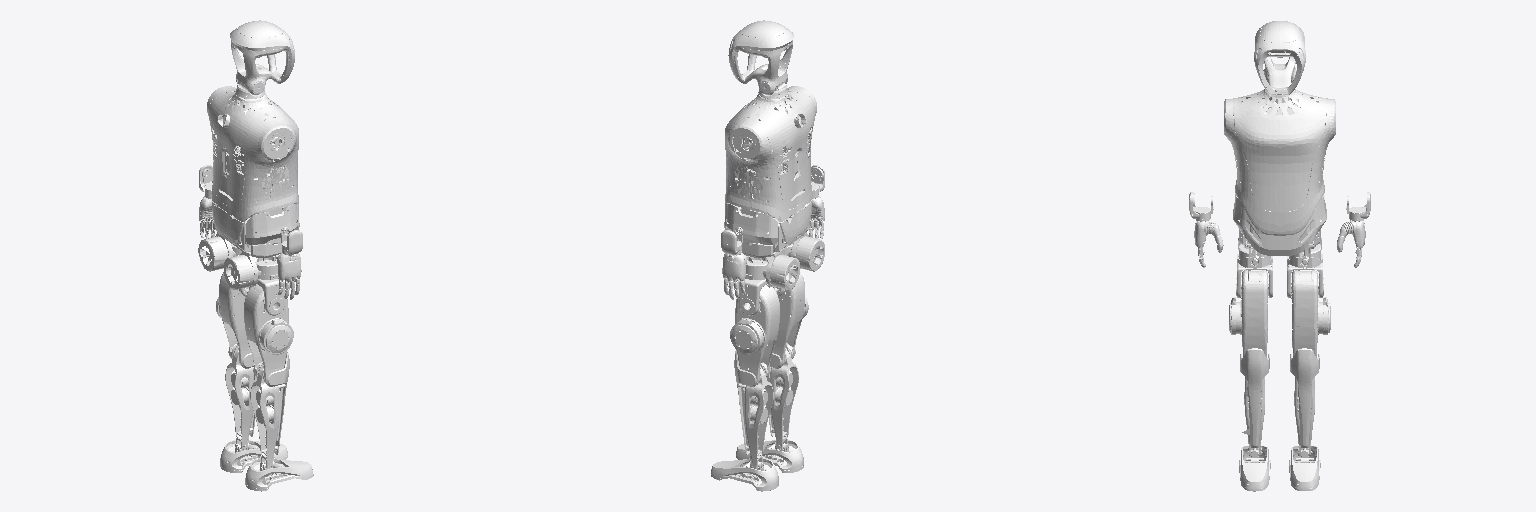
--- Render facts (derived) ---
The picture shows the robot from 3 angles, left to right: view 1: azimuth 30°, elevation 25°; view 2: azimuth 150°, elevation 25°; view 3: azimuth 270°, elevation 25°; orthographic projection.
Model biped_s42 with 47 links and 46 joints (28 revolute, 18 fixed), rooted at dummy_link, posed all joints at 0.
Visible links, largest first — view 1: base_link, zhead_2_link, leg_r3_link, leg_r4_link, leg_l4_link, leg_l3_link, leg_r6_link, zarm_r6_link, leg_l6_link, zarm_l6_link, leg_r2_link; view 2: base_link, zhead_2_link, leg_l3_link, leg_l4_link, leg_r4_link, leg_r3_link, leg_l6_link, zarm_l6_link, leg_r6_link, zarm_r6_link, leg_l2_link; view 3: base_link, zhead_2_link, leg_r3_link, leg_l3_link, leg_r4_link, leg_l4_link, leg_r6_link, leg_l6_link, zarm_r6_link, zarm_l6_link.
Link boxes in pixels (<box>): base_link: <box>198,86,299,289</box>; zhead_2_link: <box>230,20,294,94</box>; leg_r3_link: <box>244,284,293,386</box>; leg_r4_link: <box>250,350,289,468</box>; leg_l4_link: <box>225,345,258,450</box>; leg_l3_link: <box>216,272,250,368</box>; leg_r6_link: <box>245,459,313,491</box>; zarm_r6_link: <box>277,227,302,299</box>; leg_l6_link: <box>220,440,287,472</box>; zarm_l6_link: <box>199,165,214,238</box>; leg_r2_link: <box>249,279,284,315</box>; base_link: <box>724,86,824,289</box>; zhead_2_link: <box>728,20,793,94</box>; leg_l3_link: <box>730,284,779,386</box>; leg_l4_link: <box>734,350,773,468</box>; leg_r4_link: <box>765,344,798,450</box>; leg_r3_link: <box>773,272,808,368</box>; leg_l6_link: <box>711,459,778,491</box>; zarm_l6_link: <box>721,227,746,299</box>; leg_r6_link: <box>736,440,803,472</box>; zarm_r6_link: <box>809,165,824,238</box>; leg_l2_link: <box>739,279,774,315</box>; base_link: <box>1224,89,1335,268</box>; zhead_2_link: <box>1254,21,1305,94</box>; leg_r3_link: <box>1229,270,1268,357</box>; leg_l3_link: <box>1291,270,1330,357</box>; leg_r4_link: <box>1240,348,1269,455</box>; leg_l4_link: <box>1290,348,1319,455</box>; leg_r6_link: <box>1239,446,1270,491</box>; leg_l6_link: <box>1289,446,1320,490</box>; zarm_r6_link: <box>1189,192,1223,267</box>; zarm_l6_link: <box>1337,192,1370,267</box>.
Bounding box of the posed robot: 0.318 × 0.6281 × 1.71 m (x, y, z).
17 mesh visuals loaded from 32 distinct referenced files (17 binary STL); not drawn: 15 (reference not matched to a file when rendering).

URDF robot description (biped_s42):
<?xml version='1.0' encoding='utf-8'?>
<robot name="biped_s42">

  <mujoco>
    <compiler meshdir="../meshes/" balanceinertia="true" discardvisual="false" />
  </mujoco>

  <link name="dummy_link">
    <visual>
      <origin xyz="0 0 0" rpy="0 0 0"/>
      <geometry>
        <box size="0.05 0.05 0.05"/>
      </geometry>
    </visual>
    
  </link>
  
  <link 
    name="base_link">
    <inertial>
      <origin xyz="-0.0185005 0.00031952 0.1929569" rpy="0 0 0" />
      <mass value="26.30833803" />
      <inertia ixx="0.93103133" ixy="0.00011763" ixz="-0.07210993" iyy="0.82590532" iyz="6.88e-06" izz="0.27686612" />
    </inertial>
    <visual>
      <origin xyz="0 0 0" rpy="0 0 0" />
      <geometry>
        <mesh filename="package://kuavo_assets/models/biped_s42/meshes/torso.STL" />
      </geometry>
      <material name="">
        <color rgba="1 1 1 1" />
      </material>
    </visual>
  </link>
  
  

  <joint name="dummy_to_base_link" type="fixed">
    <origin xyz="0 0 0" rpy="0 0 0" />
    <parent link="dummy_link" />
    <child link="base_link" />
  </joint>

  <link name="leg_l1_link">
    <inertial>
      <origin xyz="-0.00430148 -2.708e-05 -0.00851195" rpy="0 0 0" />
      <mass value="1.71093115" />
      <inertia ixx="0.00206092" ixy="1.97e-06" ixz="6.944e-05" iyy="0.00277274" iyz="-5.1e-06" izz="0.00370826" />
    </inertial>
    <visual>
      <origin xyz="0 0 0" rpy="0 0 0" />
      <geometry>
        <mesh filename="package://kuavo_assets/models/biped_s42/meshes/l_leg_roll.STL" />
      </geometry>
      <material name="">
        <color rgba="1 1 1 1" />
      </material>
    </visual>
  </link>
  <joint name="leg_l1_joint" type="revolute">
    <origin xyz="-0.0024999 0.087 -0.066" rpy="0 0 0" />
    <parent link="base_link" />
    <child link="leg_l1_link" />
    <axis xyz="1 0 0" />
    <limit lower="-0.314159265358979" upper="0.663225115757845" effort="180.0" velocity="23.55" />
    <dynamics damping="0.2" friction="0.0"/>
  </joint>
  <link name="leg_l2_link">
    <inertial>
      <origin xyz="0.0 -0.00231118 -0.09062539" rpy="0 0 0" />
      <mass value="0.58029165" />
      <inertia ixx="0.00223984" ixy="0.0" ixz="3e-08" iyy="0.00123175" iyz="-6.98e-06" izz="0.00146391" />
    </inertial>
    <visual>
      <origin xyz="0 0 0" rpy="0 0 0" />
      <geometry>
        <mesh filename="package://kuavo_assets/models/biped_s42/meshes/l_leg_yaw.STL" />
      </geometry>
      <material name="">
        <color rgba="1 1 1 1" />
      </material>
    </visual>
  </link>
  <joint name="leg_l2_joint" type="revolute">
    <origin xyz="0 0 0" rpy="0 0 0" />
    <parent link="leg_l1_link" />
    <child link="leg_l2_link" />
    <axis xyz="0 0 1" />
    <limit lower="-0.872664625997165" upper="0.785398163397448" effort="100.0" velocity="41.3433333333333" />
    <dynamics damping="0.5" friction="0.0"/>
  </joint>
  <link name="leg_l3_link">
    <inertial>
      <origin xyz="0.00150537 0.01199614 -0.08411619" rpy="0 0 0" />
      <mass value="4.50393141" />
      <inertia ixx="0.0389365" ixy="7.866e-05" ixz="0.00102086" iyy="0.03942609" iyz="0.00219138" izz="0.00999961" />
    </inertial>
    <visual>
      <origin xyz="0 0 0" rpy="0 0 0" />
      <geometry>
        <mesh filename="package://kuavo_assets/models/biped_s42/meshes/l_leg_pitch.STL" />
      </geometry>
      <material name="">
        <color rgba="1 1 1 1" />
      </material>
    </visual>
  </link>
  <joint name="leg_l3_joint" type="revolute">
    <origin xyz="0.000500354536093913 -0.00100000000000011 -0.1287" rpy="0 0 0" />
    <parent link="leg_l2_link" />
    <child link="leg_l3_link" />
    <axis xyz="0 1 0" />
    <limit lower="-2.00712863979348" upper="1.5707963267949" effort="100.0" velocity="41.3433333333333" />
    <dynamics damping="0.2" friction="0.0"/>
  </joint>
  <link name="leg_l4_link">
    <inertial>
      <origin xyz="0.00696242 5.314e-05 -0.11549851" rpy="0 0 0" />
      <mass value="1.62776815" />
      <inertia ixx="0.01243912" ixy="-2.29e-06" ixz="5.881e-05" iyy="0.01229563" iyz="-2.895e-05" izz="0.00097937" />
    </inertial>
    <visual>
      <origin xyz="0 0 0" rpy="0 0 0" />
      <geometry>
        <mesh filename="package://kuavo_assets/models/biped_s42/meshes/l_knee.STL" />
      </geometry>
      <material name="">
        <color rgba="1 1 1 1" />
      </material>
    </visual>
  </link>
  <joint name="leg_l4_joint" type="revolute">
    <origin xyz="-6.87185435835039E-05 0 -0.284" rpy="0 0 0" />
    <parent link="leg_l3_link" />
    <child link="leg_l4_link" />
    <axis xyz="0 1 0" />
    <limit lower="0.0" upper="2.53072741539178" effort="180.0" velocity="23.55" />
    <dynamics damping="0.2" friction="0.0"/>
  </joint>
  <link name="leg_l5_link">
    <inertial>
      <origin xyz="0.0 0.0 0.0" rpy="0 0 0" />
      <mass value="0.07193524" />
      <inertia ixx="6.92e-04" ixy="0.0" ixz="0.0" iyy="6.92e-04" iyz="0.0" izz="1.218e-04" />
    </inertial>
    <visual>
      <origin xyz="0 0 0" rpy="0 0 0" />
      <geometry>
        <mesh filename="package://kuavo_assets/models/biped_s42/meshes/l_foot_pitch.STL" />
      </geometry>
      <material name="">
        <color rgba="1 1 1 1" />
      </material>
    </visual>
  </link>
  <joint name="leg_l5_joint" type="revolute">
    <origin xyz="-0.000431635992531742 0 -0.346000000000001" rpy="0 0 0" />
    <parent link="leg_l4_link" />
    <child link="leg_l5_link" />
    <axis xyz="0 1 0" />
    <limit lower="-0.872664625997165" upper="0.349065850398866" effort="36.0" velocity="23.0266666666667" />
    <dynamics damping="0.2" friction="0.0"/>
  </joint>
  <link name="leg_l6_link">
    <inertial>
      <origin xyz="0.03732754 -2.22e-06 -0.03883977" rpy="0 0 0" />
      <mass value="0.49861272" />
      <inertia ixx="0.00039242" ixy="3e-08" ixz="4.664e-05" iyy="0.00158655" iyz="0.0" izz="0.00172576" />
    </inertial>
    <visual>
      <origin xyz="0 0 0" rpy="0 0 0" />
      <geometry>
        <mesh filename="package://kuavo_assets/models/biped_s42/meshes/l_foot_roll.STL" />
      </geometry>
      <material name="">
        <color rgba="1 1 1 1" />
      </material>
    </visual>
  </link>
  <joint name="leg_l6_joint" type="revolute">
    <origin xyz="0 0 0" rpy="0 0 0" />
    <parent link="leg_l5_link" />
    <child link="leg_l6_link" />
    <axis xyz="1 0 0" />
    <limit lower="-0.261799387799149" upper="0.261799387799149" effort="36.0" velocity="23.0266666666667" />
    <dynamics damping="0.2" friction="0.0"/>
  </joint>
  <link name="ll_foot_toe">
    <collision>
      <origin rpy="0 0 0" xyz="0 0 0" />
      <geometry>
        <sphere radius="0.005" />
      </geometry>
    </collision>
  </link>
  <joint name="ll_foot_toe_joint" type="fixed">
    <origin xyz="0.17084 0.04773 -0.0595" rpy="0 0 0" />
    <parent link="leg_l6_link" />
    <child link="ll_foot_toe" />
  </joint>
  <link name="ll_foot_heel">
    <collision>
      <origin rpy="0 0 0" xyz="0 0 0" />
      <geometry>
        <sphere radius="0.005" />
      </geometry>
    </collision>
  </link>
  <joint name="ll_foot_heel_joint" type="fixed">
    <origin xyz="-0.073164 0.04773 -0.0595" rpy="0 0 0" />
    <parent link="leg_l6_link" />
    <child link="ll_foot_heel" />
  </joint>
  <link name="lr_foot_toe">
    <collision>
      <origin rpy="0 0 0" xyz="0 0 0" />
      <geometry>
        <sphere radius="0.005" />
      </geometry>
    </collision>
  </link>
  <joint name="lr_foot_toe_joint" type="fixed">
    <origin xyz="0.17084 -0.04773 -0.0595" rpy="0 0 0" />
    <parent link="leg_l6_link" />
    <child link="lr_foot_toe" />
  </joint>
  <link name="lr_foot_heel">
    <collision>
      <origin rpy="0 0 0" xyz="0 0 0" />
      <geometry>
        <sphere radius="0.005" />
      </geometry>
    </collision>
  </link>
  <joint name="lr_foot_heel_joint" type="fixed">
    <origin xyz="-0.073164 -0.04773 -0.0595" rpy="0 0 0" />
    <parent link="leg_l6_link" />
    <child link="lr_foot_heel" />
  </joint>
  <link name="l_foot_toe">
    <collision>
      <origin rpy="0 0 0" xyz="0 0 0" />
      <geometry>
        <sphere radius="0.005" />
      </geometry>
    </collision>
  </link>
  <joint name="l_foot_toe_joint" type="fixed">
    <origin xyz="0.17084 0.0 -0.0595" rpy="0 0 0" />
    <parent link="leg_l6_link" />
    <child link="l_foot_toe" />
  </joint>
  <link name="l_foot_heel">
    <collision>
      <origin rpy="0 0 0" xyz="0 0 0" />
      <geometry>
        <sphere radius="0.005" />
      </geometry>
    </collision>
  </link>
  <joint name="l_foot_heel_joint" type="fixed">
    <origin xyz="-0.073164 0.0 -0.0595" rpy="0 0 0" />
    <parent link="leg_l6_link" />
    <child link="l_foot_heel" />
  </joint>
  


  <link name="leg_r1_link">
    <inertial>
      <origin xyz="-0.00430146 2.709e-05 -0.00851195" rpy="0 0 0" />
      <mass value="1.71093008" />
      <inertia ixx="0.00206092" ixy="-1.97e-06" ixz="6.944e-05" iyy="0.00277274" iyz="5.1e-06" izz="0.00370826" />
    </inertial>
    <visual>
      <origin xyz="0 0 0" rpy="0 0 0" />
      <geometry>
        <mesh filename="package://kuavo_assets/models/biped_s42/meshes/r_leg_roll.STL" />
      </geometry>
      <material name="">
        <color rgba="1 1 1 1" />
      </material>
    </visual>
  </link>
  <joint name="leg_r1_joint" type="revolute">
    <origin xyz="-0.0024999 -0.087 -0.066" rpy="0 0 0" />
    <parent link="base_link" />
    <child link="leg_r1_link" />
    <axis xyz="1 0 0" />
    <limit lower="-0.663225115757845" upper="0.314159265358979" effort="180.0" velocity="23.55" />
    <dynamics damping="0.2" friction="0.0"/>
  </joint>
  <link name="leg_r2_link">
    <inertial>
      <origin xyz="0.0 0.00231118 -0.09062539" rpy="0 0 0" />
      <mass value="0.58029165" />
      <inertia ixx="0.00223984" ixy="0.0" ixz="-3e-08" iyy="0.00123175" iyz="6.98e-06" izz="0.00146391" />
    </inertial>
    <visual>
      <origin xyz="0 0 0" rpy="0 0 0" />
      <geometry>
        <mesh filename="package://kuavo_assets/models/biped_s42/meshes/r_leg_yaw.STL" />
      </geometry>
      <material name="">
        <color rgba="1 1 1 1" />
      </material>
    </visual>
  </link>
  <joint name="leg_r2_joint" type="revolute">
    <origin xyz="0 0 0" rpy="0 0 0" />
    <parent link="leg_r1_link" />
    <child link="leg_r2_link" />
    <axis xyz="0 0 1" />
    <limit lower="-0.785398163397448" upper="0.872664625997165" effort="100.0" velocity="41.3433333333333" />
    <dynamics damping="0.5" friction="0.0"/>
  </joint>
  <link name="leg_r3_link">
    <inertial>
      <origin xyz="0.00208315 -0.01199644 -0.08411379" rpy="0 0 0" />
      <mass value="4.50385993" />
      <inertia ixx="0.03893478" ixy="-7.792e-05" ixz="0.00103064" iyy="0.03942522" iyz="-0.00219154" izz="0.01000016" />
    </inertial>
    <visual>
      <origin xyz="0 0 0" rpy="0 0 0" />
      <geometry>
        <mesh filename="package://kuavo_assets/models/biped_s42/meshes/r_leg_pitch.STL" />
      </geometry>
      <material name="">
        <color rgba="1 1 1 1" />
      </material>
    </visual>
  </link>
  <joint name="leg_r3_joint" type="revolute">
    <origin xyz="-4.88006581312577E-05 0 -0.1287" rpy="0 0 0" />
    <parent link="leg_r2_link" />
    <child link="leg_r3_link" />
    <axis xyz="0 1 0" />
    <limit lower="-2.00712863979348" upper="1.5707963267949" effort="100.0" velocity="41.3433333333333" />
    <dynamics damping="0.2" friction="0.0"/>
  </joint>
  <link name="leg_r4_link">
    <inertial>
      <origin xyz="0.00743231 -5.343e-05 -0.11558701" rpy="0 0 0" />
      <mass value="1.62655699" />
      <inertia ixx="0.01241258" ixy="2.28e-06" ixz="6.289e-05" iyy="0.0122692" iyz="2.902e-05" izz="0.00097927" />
    </inertial>
    <visual>
      <origin xyz="0 0 0" rpy="0 0 0" />
      <geometry>
        <mesh filename="package://kuavo_assets/models/biped_s42/meshes/r_knee.STL" />
      </geometry>
      <material name="">
        <color rgba="1 1 1 1" />
      </material>
    </visual>
  </link>
  <joint name="leg_r4_joint" type="revolute">
    <origin xyz="0.000147138572785148 0 -0.283999982974744" rpy="0 0 0" />
    <parent link="leg_r3_link" />
    <child link="leg_r4_link" />
    <axis xyz="0 1 0" />
    <limit lower="0.0" upper="2.53072741539178" effort="180.0" velocity="23.55" />
    <dynamics damping="0.2" friction="0.0"/>
  </joint>
  <link name="leg_r5_link">
    <inertial>
      <origin xyz="0.0 0.0 0.0" rpy="0 0 0" />
      <mass value="0.07193524" />
      <inertia ixx="6.92e-04" ixy="0.0" ixz="0.0" iyy="6.92e-04" iyz="0.0" izz="1.218e-04" />
    </inertial>
    <visual>
      <origin xyz="0 0 0" rpy="0 0 0" />
      <geometry>
        <mesh filename="package://kuavo_assets/models/biped_s42/meshes/r_foot_pitch.STL" />
      </geometry>
      <material name="">
        <color rgba="1 1 1 1" />
      </material>
    </visual>
  </link>
  <joint name="leg_r5_joint" type="revolute">
    <origin xyz="0.000119806050928577 0 -0.345999979257963" rpy="0 0 0" />
    <parent link="leg_r4_link" />
    <child link="leg_r5_link" />
    <axis xyz="0 1 0" />
    <limit lower="-0.872664625997165" upper="0.349065850398866" effort="36.0" velocity="23.0266666666667" />
    <dynamics damping="0.2" friction="0.0"/>
  </joint>
  <link name="leg_r6_link">
    <inertial>
      <origin xyz="0.03734098 -2.22e-06 -0.03882684" rpy="0 0 0" />
      <mass value="0.49861272" />
      <inertia ixx="0.00039238" ixy="3e-08" ixz="4.618e-05" iyy="0.00158655" iyz="0.0" izz="0.00172579" />
    </inertial>
    <visual>
      <origin xyz="0 0 0" rpy="0 0 0" />
      <geometry>
        <mesh filename="package://kuavo_assets/models/biped_s42/meshes/r_foot_roll.STL" />
      </geometry>
      <material name="">
        <color rgba="1 1 1 1" />
      </material>
    </visual>
  </link>
  <joint name="leg_r6_joint" type="revolute">
    <origin xyz="0 0 0" rpy="0 0 0" />
    <parent link="leg_r5_link" />
    <child link="leg_r6_link" />
    <axis xyz="1 0 0" />
    <limit lower="-0.261799387799149" upper="0.261799387799149" effort="36.0" velocity="23.0266666666667" />
    <dynamics damping="0.2" friction="0.0"/>
  </joint>
  <link name="rl_foot_toe">
    <collision>
      <origin rpy="0 0 0" xyz="0 0 0" />
      <geometry>
        <sphere radius="0.005" />
      </geometry>
    </collision>
  </link>
  <joint name="rl_foot_toe_joint" type="fixed">
    <origin xyz="0.17084 0.04773 -0.0595" rpy="0 0 0" />
    <parent link="leg_r6_link" />
    <child link="rl_foot_toe" />
  </joint>
  <link name="rl_foot_heel">
    <collision>
      <origin rpy="0 0 0" xyz="0 0 0" />
      <geometry>
        <sphere radius="0.005" />
      </geometry>
    </collision>
  </link>
  <joint name="rl_foot_heel_joint" type="fixed">
    <origin xyz="-0.073164 0.04773 -0.0595" rpy="0 0 0" />
    <parent link="leg_r6_link" />
    <child link="rl_foot_heel" />
  </joint>
  <link name="rr_foot_toe">
    <collision>
      <origin rpy="0 0 0" xyz="0 0 0" />
      <geometry>
        <sphere radius="0.005" />
      </geometry>
    </collision>
  </link>
  <joint name="rr_foot_toe_joint" type="fixed">
    <origin xyz="0.17084 -0.04773 -0.0595" rpy="0 0 0" />
    <parent link="leg_r6_link" />
    <child link="rr_foot_toe" />
  </joint>
  <link name="rr_foot_heel">
    <collision>
      <origin rpy="0 0 0" xyz="0 0 0" />
      <geometry>
        <sphere radius="0.005" />
      </geometry>
    </collision>
  </link>
  <joint name="rr_foot_heel_joint" type="fixed">
    <origin xyz="-0.073164 -0.04773 -0.0595" rpy="0 0 0" />
    <parent link="leg_r6_link" />
    <child link="rr_foot_heel" />
  </joint>
  <link name="r_foot_toe">
    <collision>
      <origin rpy="0 0 0" xyz="0 0 0" />
      <geometry>
        <sphere radius="0.005" />
      </geometry>
    </collision>
  </link>
  <joint name="r_foot_toe_joint" type="fixed">
    <origin xyz="0.17084 0.0 -0.0595" rpy="0 0 0" />
    <parent link="leg_r6_link" />
    <child link="r_foot_toe" />
  </joint>
  <link name="r_foot_heel">
    <collision>
      <origin rpy="0 0 0" xyz="0 0 0" />
      <geometry>
        <sphere radius="0.005" />
      </geometry>
    </collision>
  </link>
  <joint name="r_foot_heel_joint" type="fixed">
    <origin xyz="-0.073164 0.0 -0.0595" rpy="0 0 0" />
    <parent link="leg_r6_link" />
    <child link="r_foot_heel" />
  </joint>

  <link name="zarm_l1_link">
    <inertial>
      <origin xyz="0.008 -0.00158 0.0036" rpy="0 0 0" />
      <mass value="1.15" />
      <inertia ixx="0.0006" ixy="5e-05" ixz="1e-05" iyy="0.00048" iyz="-6e-05" izz="0.0007" />
    </inertial>
    <visual>
      <origin xyz="0 0 0" rpy="0 0 0" />
      <geometry>
        <mesh filename="package://kuavo_assets/models/biped_s42/meshes/l_arm_pitch.STL" />
      </geometry>
      <material name="">
        <color rgba="1 1 1 1" />
      </material>
    </visual>
  </link>
  <joint name="zarm_l1_joint" type="revolute">
    <origin xyz="-0.017499853 0.26686 0.4245" rpy="0 0 0" />
    <parent link="base_link" />
    <child link="zarm_l1_link" />
    <axis xyz="0 1 0" />
    <limit lower="-2.61799387799149" upper="0.523598775598299" effort="100.0" velocity="41.3433333333333" />
    <dynamics damping="0.2" friction="0.0"/>
  </joint>
  <link name="zarm_l2_link">
    <inertial>
      <origin xyz="0.00144 0.02159 -0.0202" rpy="0 0 0" />
      <mass value="0.226" />
      <inertia ixx="0.0003" ixy="3e-05" ixz="1e-05" iyy="0.00061" iyz="5e-05" izz="0.00057" />
    </inertial>
    <visual>
      <origin xyz="0 0 0" rpy="0 0 0" />
      <geometry>
        <mesh filename="package://kuavo_assets/models/biped_s42/meshes/l_arm_roll.STL" />
      </geometry>
      <material name="">
        <color rgba="1 1 1 1" />
      </material>
    </visual>
  </link>
  <joint name="zarm_l2_joint" type="revolute">
    <origin xyz="0 0 0" rpy="0 0 0" />
    <parent link="zarm_l1_link" />
    <child link="zarm_l2_link" />
    <axis xyz="1 0 0" />
    <limit lower="-0.349065850398866" upper="2.0943951023932" effort="50.0" velocity="19.154" />
    <dynamics damping="0.2" friction="0.0"/>
  </joint>
  <link name="zarm_l3_link">
    <inertial>
      <origin xyz="-0.00157 -3e-05 -0.13318" rpy="0 0 0" />
      <mass value="1.166" />
      <inertia ixx="0.00245" ixy="-1e-05" ixz="-1e-05" iyy="0.0022" iyz="0.0" izz="0.00112" />
    </inertial>
    <visual>
      <origin xyz="0 0 0" rpy="0 0 0" />
      <geometry>
        <mesh filename="package://kuavo_assets/models/biped_s42/meshes/l_arm_yaw.STL" />
      </geometry>
      <material name="">
        <color rgba="1 1 1 1" />
      </material>
    </visual>
  </link>
  <joint name="zarm_l3_joint" type="revolute">
    <origin xyz="0 0 0" rpy="0 0 0" />
    <parent link="zarm_l2_link" />
    <child link="zarm_l3_link" />
    <axis xyz="0 0 1" />
    <limit lower="-1.5707963267949" upper="1.5707963267949" effort="20.0" velocity="18.84" />
    <dynamics damping="0.2" friction="0.0"/>
  </joint>
  <link name="zarm_l4_link">
    <inertial>
      <origin xyz="-4e-05 0.0098 -0.05283" rpy="0 0 0" />
      <mass value="0.575" />
      <inertia ixx="0.00098" ixy="0.0" ixz="0.0" iyy="0.00062" iyz="-0.00016" izz="0.00088" />
    </inertial>
    <visual>
      <origin xyz="0 0 0" rpy="0 0 0" />
      <geometry>
        <mesh filename="package://kuavo_assets/models/biped_s42/meshes/l_forearm.STL" />
      </geometry>
      <material name="">
        <color rgba="1 1 1 1" />
      </material>
    </visual>
  </link>
  <joint name="zarm_l4_joint" type="revolute">
    <origin xyz="0 0 -0.1646" rpy="0 0 0" />
    <parent link="zarm_l3_link" />
    <child link="zarm_l4_link" />
    <axis xyz="0 1 0" />
    <limit lower="-1.5707963267949" upper="0.0" effort="20.0" velocity="18.84" />
    <dynamics damping="0.2" friction="0.0"/>
  </joint>
  <link name="zarm_l5_link">
    <inertial>
      <origin xyz="-0.00011 0.00421 -0.11168" rpy="0 0 0" />
      <mass value="0.46" />
      <inertia ixx="0.00077" ixy="0.0" ixz="0.0" iyy="0.0005" iyz="-4e-05" izz="0.00063" />
    </inertial>
    <visual>
      <origin xyz="0 0 0" rpy="0 0 0" />
      <geometry>
        <mesh filename="package://kuavo_assets/models/biped_s42/meshes/l_hand_yaw.STL" />
      </geometry>
      <material name="">
        <color rgba="1 1 1 1" />
      </material>
    </visual>
  </link>
  <joint name="zarm_l5_joint" type="revolute">
    <origin xyz="0 0 0" rpy="0 0 0" />
    <parent link="zarm_l4_link" />
    <child link="zarm_l5_link" />
    <axis xyz="0 0 1" />
    <limit lower="-1.5707963267949" upper="1.5707963267949" effort="6.0" velocity="21.666" />
    <dynamics damping="0.2" friction="0.0"/>
  </joint>
  <link name="zarm_l6_link">
    <inertial>
      <origin xyz="0.00253 0.00382 -0.05356" rpy="0 0 0" />
      <mass value="0.35" />
      <inertia ixx="0.00023" ixy="0.0" ixz="0.0" iyy="0.00024" iyz="-4e-05" izz="0.00019" />
    </inertial>
    <visual>
      <origin xyz="0 0 0" rpy="0 0 0" />
      <geometry>
        <mesh filename="package://kuavo_assets/models/biped_s42/meshes/l_hand_pitch.STL" />
      </geometry>
      <material name="">
        <color rgba="1 1 1 1" />
      </material>
    </visual>
  </link>
  <joint name="zarm_l6_joint" type="revolute">
    <origin xyz="0 0 -0.132050000125748" rpy="0 0 0" />
    <parent link="zarm_l5_link" />
    <child link="zarm_l6_link" />
    <axis xyz="0 1 0" />
    <limit lower="-1.5707963267949" upper="1.5707963267949" effort="6.0" velocity="21.666" />
    <dynamics damping="0.2" friction="0.0"/>
  </joint>
  <link name="zarm_l7_link">
    <inertial>
      <origin xyz="0.00267 0.00748 -0.07162" rpy="0 0 0" />
      <mass value="0.81" />
      <inertia ixx="0.00117" ixy="2e-05" ixz="0.0" iyy="0.00128" iyz="-2e-05" izz="0.00036" />
    </inertial>
    <visual>
      <origin xyz="0 0 0" rpy="0 0 0" />
      <geometry>
        <mesh filename="package://kuavo_assets/models/biped_s42/meshes/l_hand_roll.STL" />
      </geometry>
      <material name="">
        <color rgba="1 1 1 1" />
      </material>
    </visual>
  </link>
  <joint name="zarm_l7_joint" type="revolute">
    <origin xyz="0 0 -0.0589999999999999" rpy="0 0 0" />
    <parent link="zarm_l6_link" />
    <child link="zarm_l7_link" />
    <axis xyz="1 0 0" />
    <limit lower="-1.5707963267949" upper="1.5707963267949" effort="6.0" velocity="21.666" />
    <dynamics damping="0.2" friction="0.0"/>
  </joint>
  <link name="zarm_l7_end_effector">
    <collision>
      <origin rpy="0 0 0" xyz="0 0 0" />
      <geometry>
        <sphere radius="0.005" />
      </geometry>
    </collision>
  </link>
  <joint name="zarm_l7_end_effector_joint" type="fixed">
    <origin xyz="0 -0.03 -0.17" rpy="0 0 0" />
    <parent link="zarm_l7_link" />
    <child link="zarm_l7_end_effector" />
  </joint>
  <link name="zarm_r1_link">
    <inertial>
      <origin xyz="0.008 0.00158 -0.0036" rpy="0 0 0" />
      <mass value="1.15" />
      <inertia ixx="0.0006" ixy="-5e-05" ixz="-1e-05" iyy="0.00048" iyz="-6e-05" izz="0.0007" />
    </inertial>
    <visual>
      <origin xyz="0 0 0" rpy="0 0 0" />
      <geometry>
        <mesh filename="package://kuavo_assets/models/biped_s42/meshes/r_arm_pitch.STL" />
      </geometry>
      <material name="">
        <color rgba="1 1 1 1" />
      </material>
    </visual>
  </link>
  <joint name="zarm_r1_joint" type="revolute">
    <origin xyz="-0.017499853 -0.26686 0.4245" rpy="0 0 0" />
    <parent link="base_link" />
    <child link="zarm_r1_link" />
    <axis xyz="0 1 0" />
    <limit lower="-2.61799387799149" upper="0.523598775598299" effort="100.0" velocity="41.3433333333333" />
    <dynamics damping="0.2" friction="0.0"/>
  </joint>
  <link name="zarm_r2_link">
    <inertial>
      <origin xyz="0.00144 -0.02159 -0.02021" rpy="0 0 0" />
      <mass value="0.226" />
      <inertia ixx="0.0003" ixy="-3e-05" ixz="1e-05" iyy="0.00061" iyz="-5e-05" izz="0.00057" />
    </inertial>
    <visual>
      <origin xyz="0 0 0" rpy="0 0 0" />
      <geometry>
        <mesh filename="package://kuavo_assets/models/biped_s42/meshes/r_arm_roll.STL" />
      </geometry>
      <material name="">
        <color rgba="1 1 1 1" />
      </material>
    </visual>
  </link>
  <joint name="zarm_r2_joint" type="revolute">
    <origin xyz="0 0 0" rpy="0 0 0" />
    <parent link="zarm_r1_link" />
    <child link="zarm_r2_link" />
    <axis xyz="1 0 0" />
    <limit lower="-2.0943951023932" upper="0.349065850398866" effort="50.0" velocity="19.154" />
    <dynamics damping="0.2" friction="0.0"/>
  </joint>
  <link name="zarm_r3_link">
    <inertial>
      <origin xyz="-0.00157 3e-05 -0.13318" rpy="0 0 0" />
      <mass value="1.166" />
      <inertia ixx="0.00245" ixy="1e-05" ixz="-1e-05" iyy="0.0022" iyz="0.0" izz="0.00112" />
    </inertial>
    <visual>
      <origin xyz="0 0 0" rpy="0 0 0" />
      <geometry>
        <mesh filename="package://kuavo_assets/models/biped_s42/meshes/r_arm_yaw.STL" />
      </geometry>
      <material name="">
        <color rgba="1 1 1 1" />
      </material>
    </visual>
  </link>
  <joint name="zarm_r3_joint" type="revolute">
    <origin xyz="0 0 0" rpy="0 0 0" />
    <parent link="zarm_r2_link" />
    <child link="zarm_r3_link" />
    <axis xyz="0 0 1" />
    <limit lower="-1.5707963267949" upper="1.5707963267949" effort="20.0" velocity="18.84" />
    <dynamics damping="0.2" friction="0.0"/>
  </joint>
  <link name="zarm_r4_link">
    <inertial>
      <origin xyz="-4e-05 -0.0098 -0.05283" rpy="0 0 0" />
      <mass value="0.575" />
      <inertia ixx="0.00098" ixy="0.0" ixz="0.0" iyy="0.00062" iyz="0.00016" izz="0.00088" />
    </inertial>
    <visual>
      <origin xyz="0 0 0" rpy="0 0 0" />
      <geometry>
        <mesh filename="package://kuavo_assets/models/biped_s42/meshes/r_forearm.STL" />
      </geometry>
      <material name="">
        <color rgba="1 1 1 1" />
      </material>
    </visual>
  </link>
  <joint name="zarm_r4_joint" type="revolute">
    <origin xyz="0 0 -0.1646" rpy="0 0 0" />
    <parent link="zarm_r3_link" />
    <child link="zarm_r4_link" />
    <axis xyz="0 1 0" />
    <limit lower="-1.5707963267949" upper="0.0" effort="20.0" velocity="18.84" />
    <dynamics damping="0.2" friction="0.0"/>
  </joint>
  <link name="zarm_r5_link">
    <inertial>
      <origin xyz="-0.00011 -0.00421 -0.11168" rpy="0 0 0" />
      <mass value="0.46" />
      <inertia ixx="0.00077" ixy="0.0" ixz="0.0" iyy="0.0005" iyz="4e-05" izz="0.00063" />
    </inertial>
    <visual>
      <origin xyz="0 0 0" rpy="0 0 0" />
      <geometry>
        <mesh filename="package://kuavo_assets/models/biped_s42/meshes/r_hand_yaw.STL" />
      </geometry>
      <material name="">
        <color rgba="1 1 1 1" />
      </material>
    </visual>
  </link>
  <joint name="zarm_r5_joint" type="revolute">
    <origin xyz="0 0 0" rpy="0 0 0" />
    <parent link="zarm_r4_link" />
    <child link="zarm_r5_link" />
    <axis xyz="0 0 1" />
    <limit lower="-1.5707963267949" upper="1.5707963267949" effort="6.0" velocity="21.666" />
    <dynamics damping="0.2" friction="0.0"/>
  </joint>
  <link name="zarm_r6_link">
    <inertial>
      <origin xyz="0.00253 -0.00382 -0.05356" rpy="0 0 0" />
      <mass value="0.35" />
      <inertia ixx="0.00023" ixy="0.0" ixz="0.0" iyy="0.00024" iyz="4e-05" izz="0.00019" />
    </inertial>
    <visual>
      <origin xyz="0 0 0" rpy="0 0 0" />
      <geometry>
        <mesh filename="package://kuavo_assets/models/biped_s42/meshes/r_hand_pitch.STL" />
      </geometry>
      <material name="">
        <color rgba="1 1 1 1" />
      </material>
    </visual>
  </link>
  <joint name="zarm_r6_joint" type="revolute">
    <origin xyz="0 0 -0.132050000240097" rpy="0 0 0" />
    <parent link="zarm_r5_link" />
    <child link="zarm_r6_link" />
    <axis xyz="0 1 0" />
    <limit lower="-1.5707963267949" upper="1.5707963267949" effort="6.0" velocity="21.666" />
    <dynamics damping="0.2" friction="0.0"/>
  </joint>
  <link name="zarm_r7_link">
    <inertial>
      <origin xyz="0.00267 -0.00748 -0.07162" rpy="0 0 0" />
      <mass value="0.81" />
      <inertia ixx="0.00098" ixy="-1e-05" ixz="1e-05" iyy="0.00104" iyz="1e-05" izz="0.00027" />
    </inertial>
    <visual>
      <origin xyz="0 0 0" rpy="0 0 0" />
      <geometry>
        <mesh filename="package://kuavo_assets/models/biped_s42/meshes/r_hand_roll.STL" />
      </geometry>
      <material name="">
        <color rgba="1 1 1 1" />
      </material>
    </visual>
  </link>
  <joint name="zarm_r7_joint" type="revolute">
    <origin xyz="0 0 -0.0589999999999999" rpy="0 0 0" />
    <parent link="zarm_r6_link" />
    <child link="zarm_r7_link" />
    <axis xyz="1 0 0" />
    <limit lower="-1.5707963267949" upper="1.5707963267949" effort="6.0" velocity="21.666" />
    <dynamics damping="0.2" friction="0.0"/>
  </joint>
  <link name="zarm_r7_end_effector">
    <collision>
      <origin rpy="0 0 0" xyz="0 0 0" />
      <geometry>
        <sphere radius="0.005" />
      </geometry>
    </collision>
  </link>
  <joint name="zarm_r7_end_effector_joint" type="fixed">
    <origin xyz="0 0.03 -0.17" rpy="0 0 0" />
    <parent link="zarm_r7_link" />
    <child link="zarm_r7_end_effector" />
  </joint>
  <link name="zhead_1_link">
    <inertial>
      <origin xyz="2e-05 0.00605 -0.01052" rpy="0 0 0" />
      <mass value="0.35" />
      <inertia ixx="7e-05" ixy="0.0" ixz="0.0" iyy="5e-05" iyz="0.0" izz="5e-05" />
    </inertial>
    <visual>
      <origin xyz="0 0 0" rpy="0 0 0" />
      <geometry>
        <mesh filename="package://kuavo_assets/models/biped_s42/meshes/head_yaw.STL" />
      </geometry>
      <material name="">
        <color rgba="1 1 1 1" />
      </material>
    </visual>
  </link>
  <joint name="zhead_1_joint" type="revolute">
    <origin xyz="-0.018499853 0.0 0.6014" rpy="0 0 0" />
    <parent link="base_link" />
    <child link="zhead_1_link" />
    <axis xyz="0 0 1" />
    <limit lower="-1.5707963267949" upper="1.5707963267949" effort="1.5" velocity="5.23333333333333" />
  </joint>
  <link name="zhead_2_link">
    <inertial>
      <origin xyz="0.02648 -0.00142 0.10674" rpy="0 0 0" />
      <mass value="0.5492" />
      <inertia ixx="0.00346" ixy="-3e-05" ixz="0.00017" iyy="0.00348" iyz="-7e-05" izz="0.00222" />
    </inertial>
    <visual>
      <origin xyz="0 0 0" rpy="0 0 0" />
      <geometry>
        <mesh filename="package://kuavo_assets/models/biped_s42/meshes/head_pitch.STL" />
      </geometry>
      <material name="">
        <color rgba="1 1 1 1" />
      </material>
    </visual>
  </link>
  <joint name="zhead_2_joint" type="revolute">
    <origin xyz="0 0 0" rpy="0 0 0" />
    <parent link="zhead_1_link" />
    <child link="zhead_2_link" />
    <axis xyz="0 1 0" />
    <limit lower="-0.523598775598299" upper="0.523598775598299" effort="12.0" velocity="5.23333333333333" />
  </joint>
  <link name="camera">
    <inertial>
      <origin xyz="-0.04257 -0.01736 -0.01161" rpy="0 0 0" />
      <mass value="0.047" />
      <inertia ixx="0.00065" ixy="0.0" ixz="0.00015" iyy="0.00091" iyz="0.0" izz="0.00105" />
    </inertial>
    <visual>
      <origin xyz="0 0 0" rpy="0 0 0" />
      <geometry>
        <mesh filename="package://kuavo_assets/models/biped_s42/meshes/camera.STL" />
      </geometry>
      <material name="">
        <color rgba="1 1 1 1" />
      </material>
    </visual>
  </link>
  <joint name="camera" type="fixed">
    <origin xyz="0.0967509784707853 0.0175003248712456 0.125953265112721" rpy="0 0.488692190558413 0" />
    <parent link="zhead_2_link" />
    <child link="camera" />
  </joint>
  <link
    name="camera_base">
    <inertial>
      <origin
        xyz="0.00354055659132058 0.00140392784997684 0.0124511787517705"
        rpy="0 0 0" />
      <mass
        value="0.0170256015508834" />
      <inertia
        ixx="1.0918264029313E-05"
        ixy="1.05354408167889E-07"
        ixz="1.05871497323805E-08"
        iyy="8.57178950734466E-07"
        iyz="1.64018651463453E-08"
        izz="1.02869893338382E-05" />
    </inertial>
    <visual>
      <origin
        xyz="0 0 0"
        rpy="0 0 0" />
      <geometry>
        <mesh
          filename="package://kuavo_assets/models/biped_s42/meshes/camera_base.STL" />
      </geometry>
      <material
        name="">
        <color
          rgba="1 1 1 1" />
      </material>
    </visual>
    <collision>
      <origin
        xyz="0 0 0"
        rpy="0 0 0" />
      <geometry>
        <mesh
          filename="package://kuavo_assets/models/biped_s42/meshes/camera_base.STL" />
      </geometry>
    </collision>
  </link>
  <joint
    name="camera_base"
    type="fixed">
    <origin
      xyz="0.0828919080642966 0 0.119165137551254"
      rpy="0 0.488692190558416 0" />
    <parent
      link="zhead_2_link" />
    <child
      link="camera_base" />
  </joint>

  <link name="radar">
    <inertial>
      <origin xyz="-0.00018 1e-05 0.01777" rpy="0 0 0" />
      <mass value="0.2688" />
      <inertia ixx="0.00013" ixy="0.0" ixz="0.0" iyy="0.00014" iyz="0.0" izz="0.00014" />
    </inertial>
    <visual>
      <origin xyz="0 0 0" rpy="0 0 0" />
      <geometry>
        <mesh filename="package://kuavo_assets/models/biped_s42/meshes/radar.STL" />
      </geometry>
      <material name="">
        <color rgba="1 1 1 1" />
      </material>
    </visual>
  </link>
  <joint name="radar" type="fixed">
    <origin xyz="0.0217799337881943 0 0.105417258037133" rpy="0 0.229686043245049 0" />
    <parent link="zhead_2_link" />
    <child link="radar" />
  </joint>

  <!-- 在原有的gazebo插件配置后添加 -->
  <!-- 真值 -->
  <gazebo>
    <plugin filename="libgazebo_ros_p3d.so" name="p3d_base_controller">
      <alwaysOn>true</alwaysOn>
      <updateRate>500.0</updateRate>
      <bodyName>dummy_link</bodyName>
      <topicName>ground_truth/state</topicName>
      <gaussianNoise>0</gaussianNoise>
      <frameName>world</frameName>
      <xyzOffsets>0 0 0</xyzOffsets>
      <rpyOffsets>0 0 0</rpyOffsets>
    </plugin>
  </gazebo>

  <!-- 左脚 -->
  <gazebo reference="leg_l6_link">
    <mu1>1.5</mu1>
    <mu2>2.5</mu2>
    <self_collide>1</self_collide>
    <kp value="1000000.0"/>
    <kd value="100.0"/>
    <maxVel>3</maxVel>
    <minDepth>0.00</minDepth>
  </gazebo>
  <gazebo reference="l_foot_heel">
    <mu1>1.5</mu1>
    <mu2>2.5</mu2>
    <self_collide>1</self_collide>
    <kp value="1000000.0"/>
    <kd value="100.0"/>
    <maxVel>3</maxVel>
    <minDepth>0.00</minDepth>
  </gazebo>
  <gazebo reference="l_foot_toe">
    <mu1>1.5</mu1>
    <mu2>2.5</mu2>
    <self_collide>1</self_collide>
    <kp value="1000000.0"/>
    <kd value="100.0"/>
    <maxVel>3</maxVel>
    <minDepth>0.00</minDepth>
  </gazebo>
  <gazebo reference="lr_foot_heel">
    <mu1>1.5</mu1>
    <mu2>2.5</mu2>
    <self_collide>1</self_collide>
    <kp value="1000000.0"/>
    <kd value="100.0"/>
    <maxVel>3</maxVel>
    <minDepth>0.00</minDepth>
  </gazebo>
  <gazebo reference="lr_foot_toe">
    <mu1>1.5</mu1>
    <mu2>2.5</mu2>
    <self_collide>1</self_collide>
    <kp value="1000000.0"/>
    <kd value="100.0"/>
    <maxVel>3</maxVel>
    <minDepth>0.00</minDepth>
  </gazebo>
  <gazebo reference="ll_foot_heel">
    <mu1>1.5</mu1>
    <mu2>2.5</mu2>
    <self_collide>1</self_collide>
    <kp value="1000000.0"/>
    <kd value="100.0"/>
    <maxVel>3</maxVel>
    <minDepth>0.00</minDepth>
  </gazebo>
  <gazebo reference="ll_foot_toe">
    <mu1>1.5</mu1>
    <mu2>2.5</mu2>
    <self_collide>1</self_collide>
    <kp value="1000000.0"/>
    <kd value="100.0"/>
    <maxVel>3</maxVel>
    <minDepth>0.00</minDepth>
  </gazebo>

  <!-- 右脚 -->
  <gazebo reference="leg_r6_link">
    <mu1>1.5</mu1>
    <mu2>2.5</mu2>
    <self_collide>1</self_collide>
    <kp value="1000000.0"/>
    <kd value="100.0"/>
    <maxVel>3</maxVel>
    <minDepth>0.00</minDepth>
  </gazebo>
  <gazebo reference="r_foot_heel">
    <mu1>1.5</mu1>
    <mu2>2.5</mu2>
    <self_collide>1</self_collide>
    <kp value="1000000.0"/>
    <kd value="100.0"/>
    <maxVel>3</maxVel>
    <minDepth>0.00</minDepth>
  </gazebo>
  <gazebo reference="r_foot_toe">
    <mu1>1.5</mu1>
    <mu2>2.5</mu2>
    <self_collide>1</self_collide>
    <kp value="1000000.0"/>
    <kd value="100.0"/>
    <maxVel>3</maxVel>
    <minDepth>0.00</minDepth>
  </gazebo>
  <gazebo reference="rl_foot_toe">
    <mu1>1.5</mu1>
    <mu2>2.5</mu2>
    <self_collide>1</self_collide>
    <kp value="1000000.0"/>
    <kd value="100.0"/>
    <maxVel>3</maxVel>
    <minDepth>0.00</minDepth>
  </gazebo>
  <gazebo reference="rl_foot_heel">
    <mu1>1.5</mu1>
    <mu2>2.5</mu2>
    <self_collide>1</self_collide>
    <kp value="1000000.0"/>
    <kd value="100.0"/>
    <maxVel>3</maxVel>
    <minDepth>0.00</minDepth>
  </gazebo>
  <gazebo reference="rr_foot_toe">
    <mu1>1.5</mu1>
    <mu2>2.5</mu2>
    <self_collide>1</self_collide>
    <kp value="1000000.0"/>
    <kd value="100.0"/>
    <maxVel>3</maxVel>
    <minDepth>0.00</minDepth>
  </gazebo>
  <gazebo reference="rr_foot_heel">
    <mu1>1.5</mu1>
    <mu2>2.5</mu2>
    <self_collide>1</self_collide>
    <kp value="1000000.0"/>
    <kd value="100.0"/>
    <maxVel>3</maxVel>
    <minDepth>0.00</minDepth>
  </gazebo>

  <!-- 仿真插件 -->
  <gazebo>
    <plugin name="gazebo_shm_interface" filename="libgazebo_sim_shm_interface.so">
      <!-- IMU配置 gazebo中fixed连接的link都只能获取第一个-->
      <imu>
        <frame_id>dummy_link</frame_id>
      </imu>
      
      <!-- 关节配置 -->
      <joints>
        <!-- 左腿关节 -->
        <joint><name>leg_l1_joint</name></joint>
        <joint><name>leg_l2_joint</name></joint>
        <joint><name>leg_l3_joint</name></joint>
        <joint><name>leg_l4_joint</name></joint>
        <joint><name>leg_l5_joint</name></joint>
        <joint><name>leg_l6_joint</name></joint>
        
        <!-- 右腿关节 -->
        <joint><name>leg_r1_joint</name></joint>
        <joint><name>leg_r2_joint</name></joint>
        <joint><name>leg_r3_joint</name></joint>
        <joint><name>leg_r4_joint</name></joint>
        <joint><name>leg_r5_joint</name></joint>
        <joint><name>leg_r6_joint</name></joint>
        
        <!-- 左臂关节 -->
        <joint><name>zarm_l1_joint</name></joint>
        <joint><name>zarm_l2_joint</name></joint>
        <joint><name>zarm_l3_joint</name></joint>
        <joint><name>zarm_l4_joint</name></joint>
        <joint><name>zarm_l5_joint</name></joint>
        <joint><name>zarm_l6_joint</name></joint>
        <joint><name>zarm_l7_joint</name></joint>
        
        <!-- 右臂关节 -->
        <joint><name>zarm_r1_joint</name></joint>
        <joint><name>zarm_r2_joint</name></joint>
        <joint><name>zarm_r3_joint</name></joint>
        <joint><name>zarm_r4_joint</name></joint>
        <joint><name>zarm_r5_joint</name></joint>
        <joint><name>zarm_r6_joint</name></joint>
        <joint><name>zarm_r7_joint</name></joint>
        
        <!-- 头部关节 -->
        <joint><name>zhead_1_joint</name></joint>
        <joint><name>zhead_2_joint</name></joint>
      </joints>
      
      <!-- 接触传感器配置 -->
      <contacts>
        <contact><link>ll_foot_toe</link></contact>
        <contact><link>ll_foot_heel</link></contact>
        <contact><link>lr_foot_toe</link></contact>
        <contact><link>lr_foot_heel</link></contact>
        <contact><link>rl_foot_toe</link></contact>
        <contact><link>rl_foot_heel</link></contact>
        <contact><link>rr_foot_toe</link></contact>
        <contact><link>rr_foot_heel</link></contact>
      </contacts>
      </plugin>
  </gazebo>
</robot>
